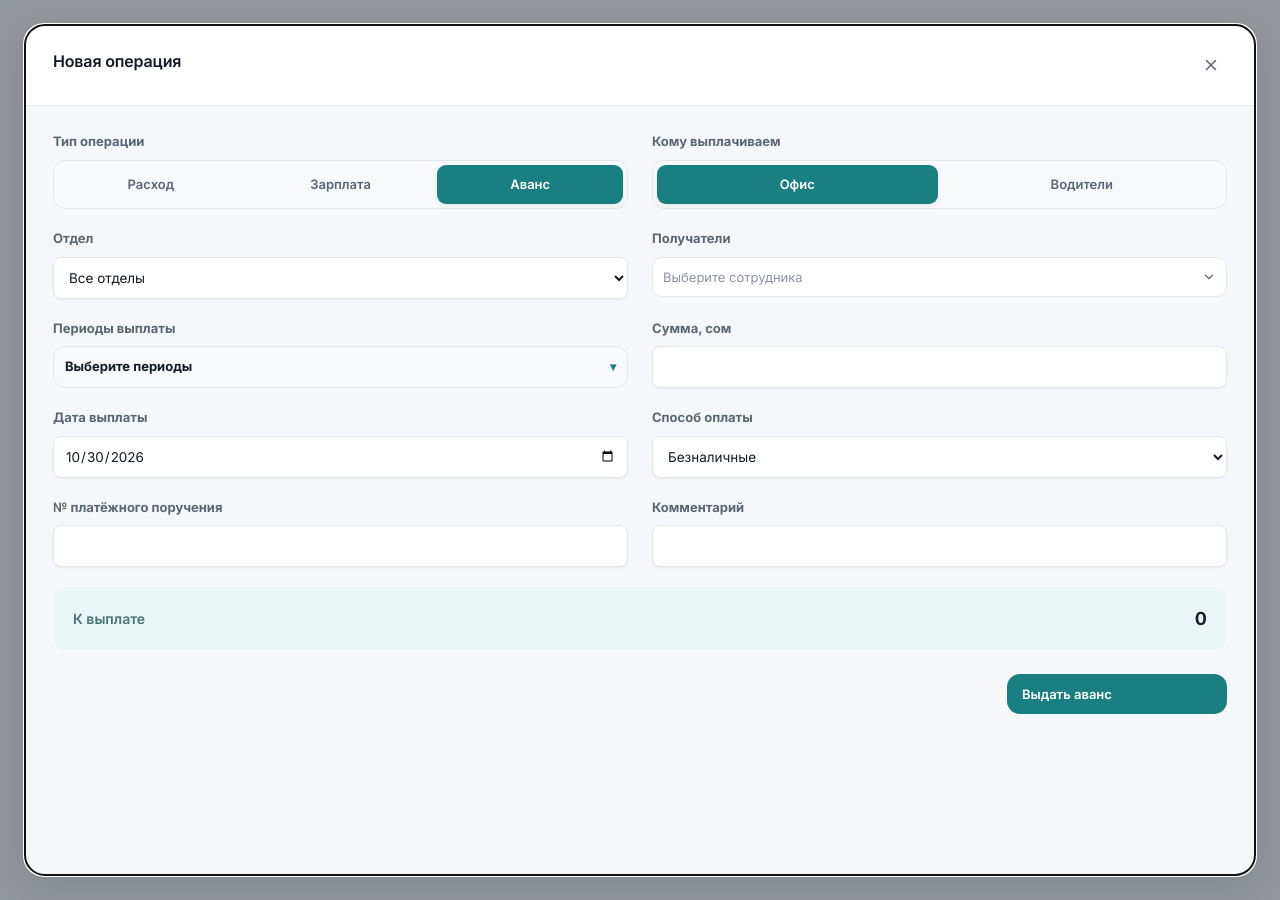
Test: department field filters schools in the driver picker
The image size is (1280, 900).
Click the button "Водители" at (1082, 184), box [942,164,1222,204]
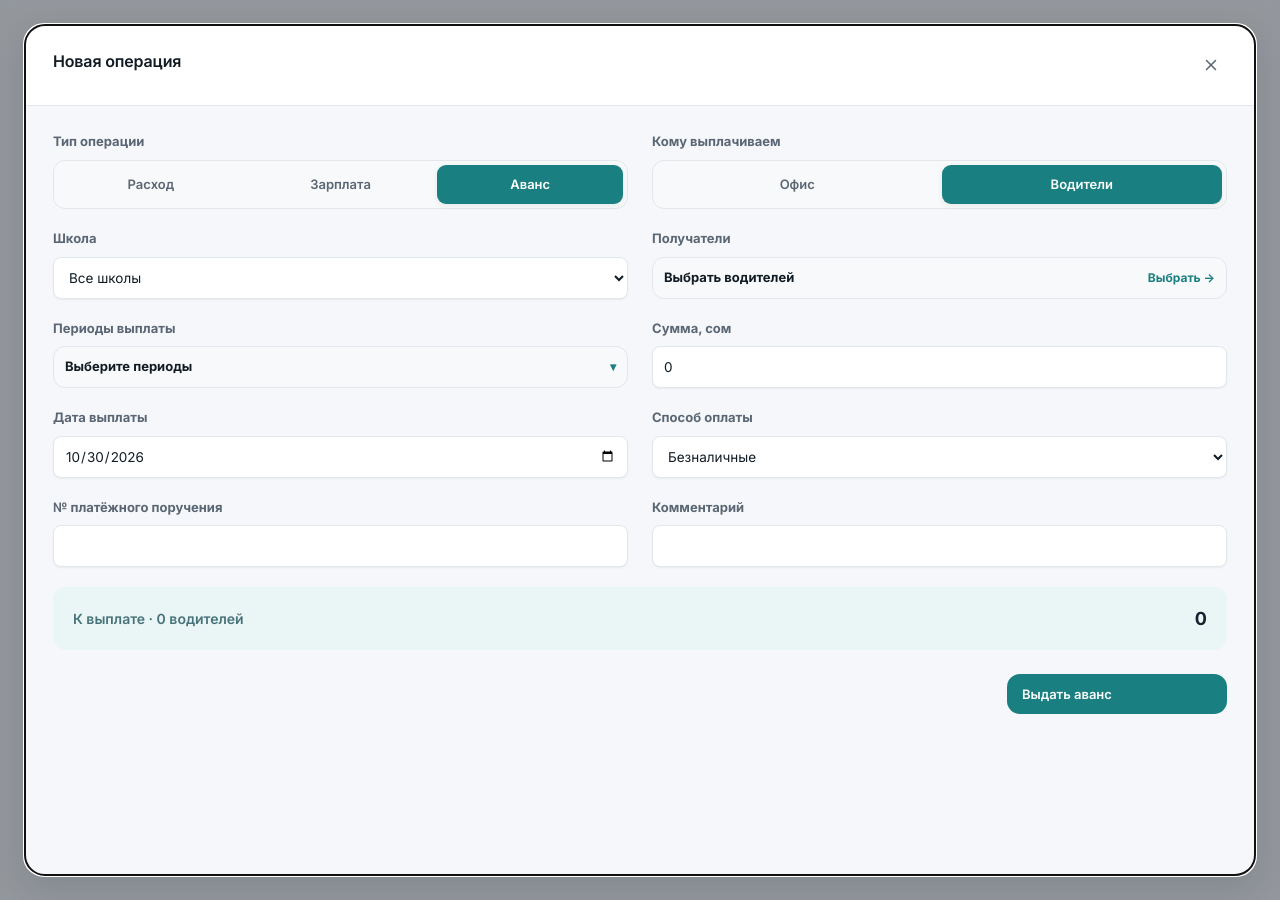
Select "TIS" in the dropdown labelled "Школа" at (340, 278), box [53,256,628,298]
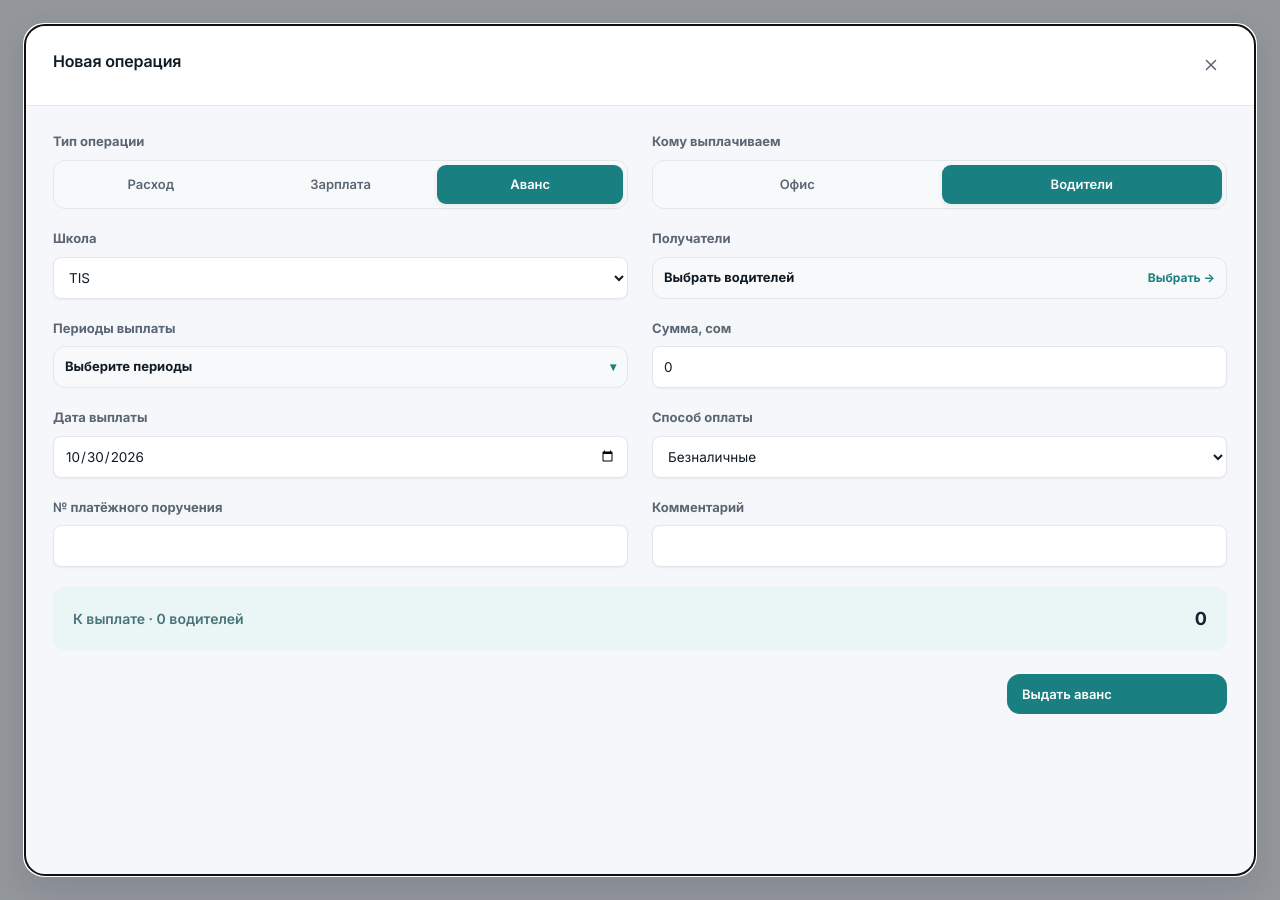
Click the button named "Получатели" at (729, 277), box [652,256,1227,298]
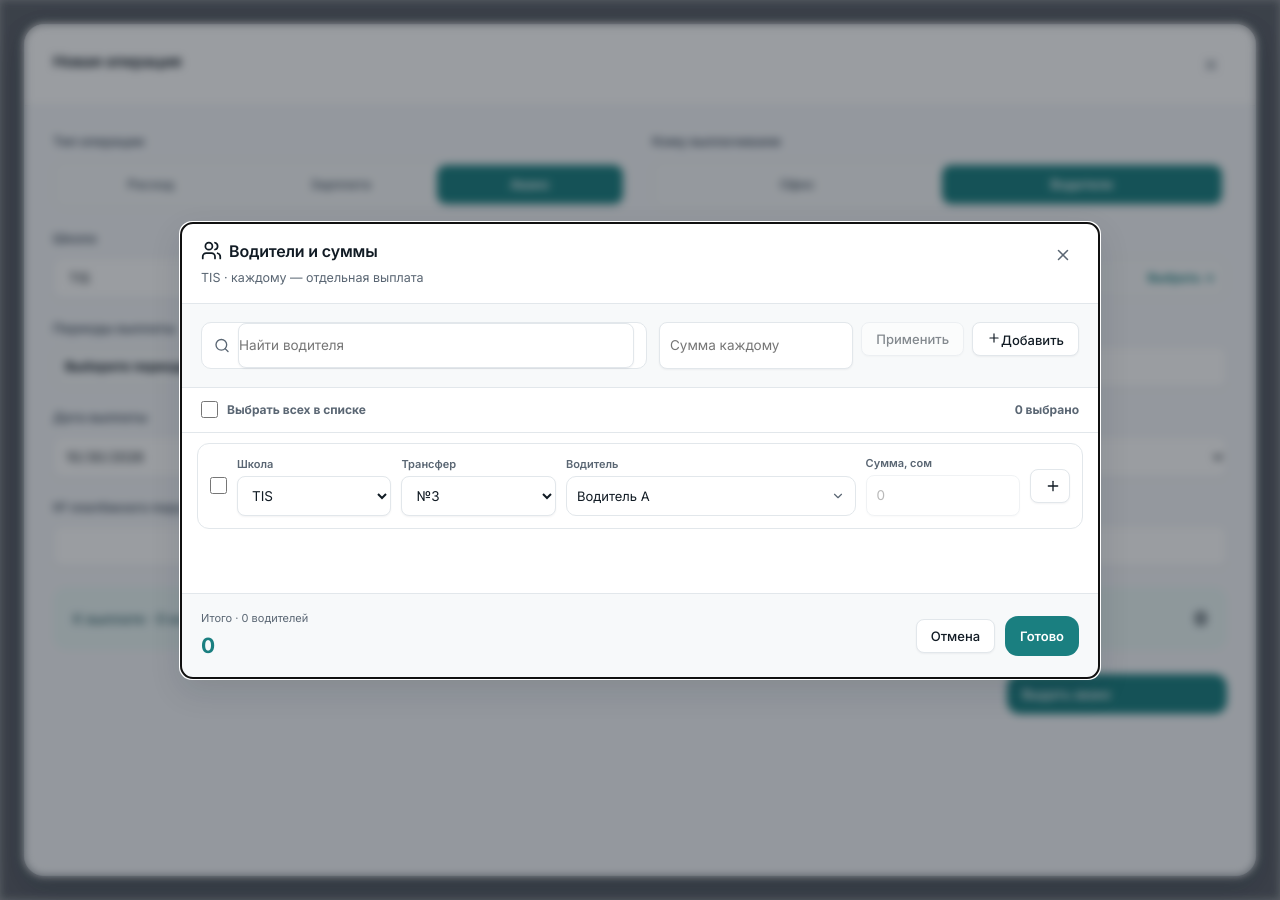
Result: the checkbox named "Водитель А" is shown at [210,477,227,494]
